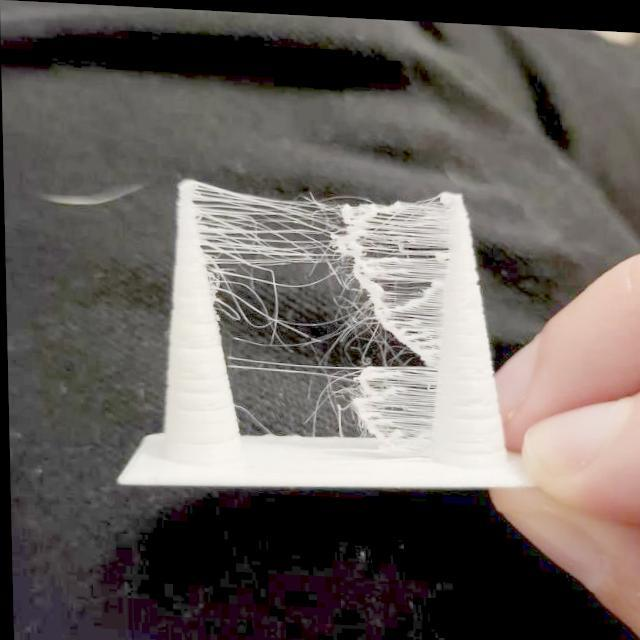stringing: (336, 196, 444, 339), (198, 188, 332, 279), (324, 354, 433, 436), (214, 270, 271, 326), (225, 349, 318, 377)
